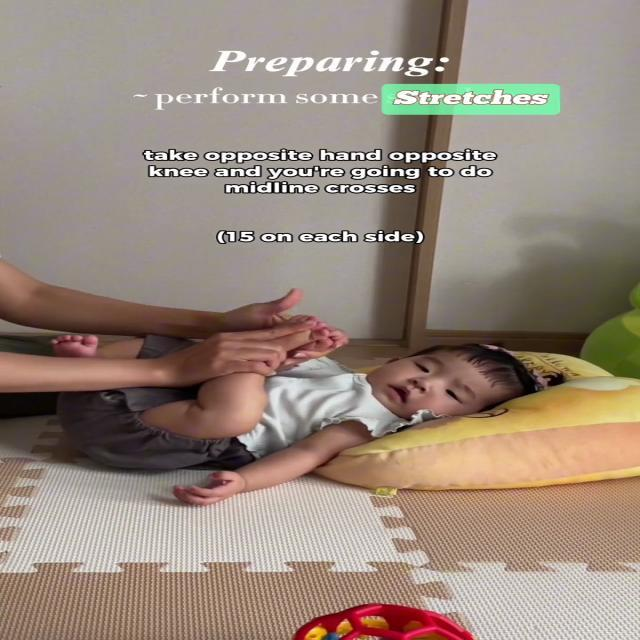baby: (30, 310, 576, 510)
